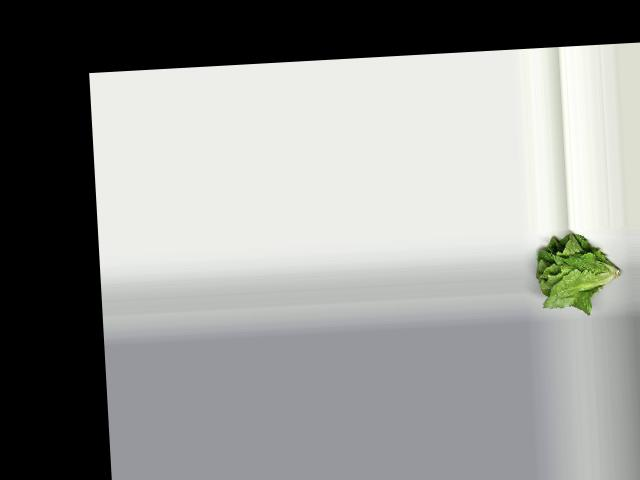lettuce: (529, 231, 626, 310)
